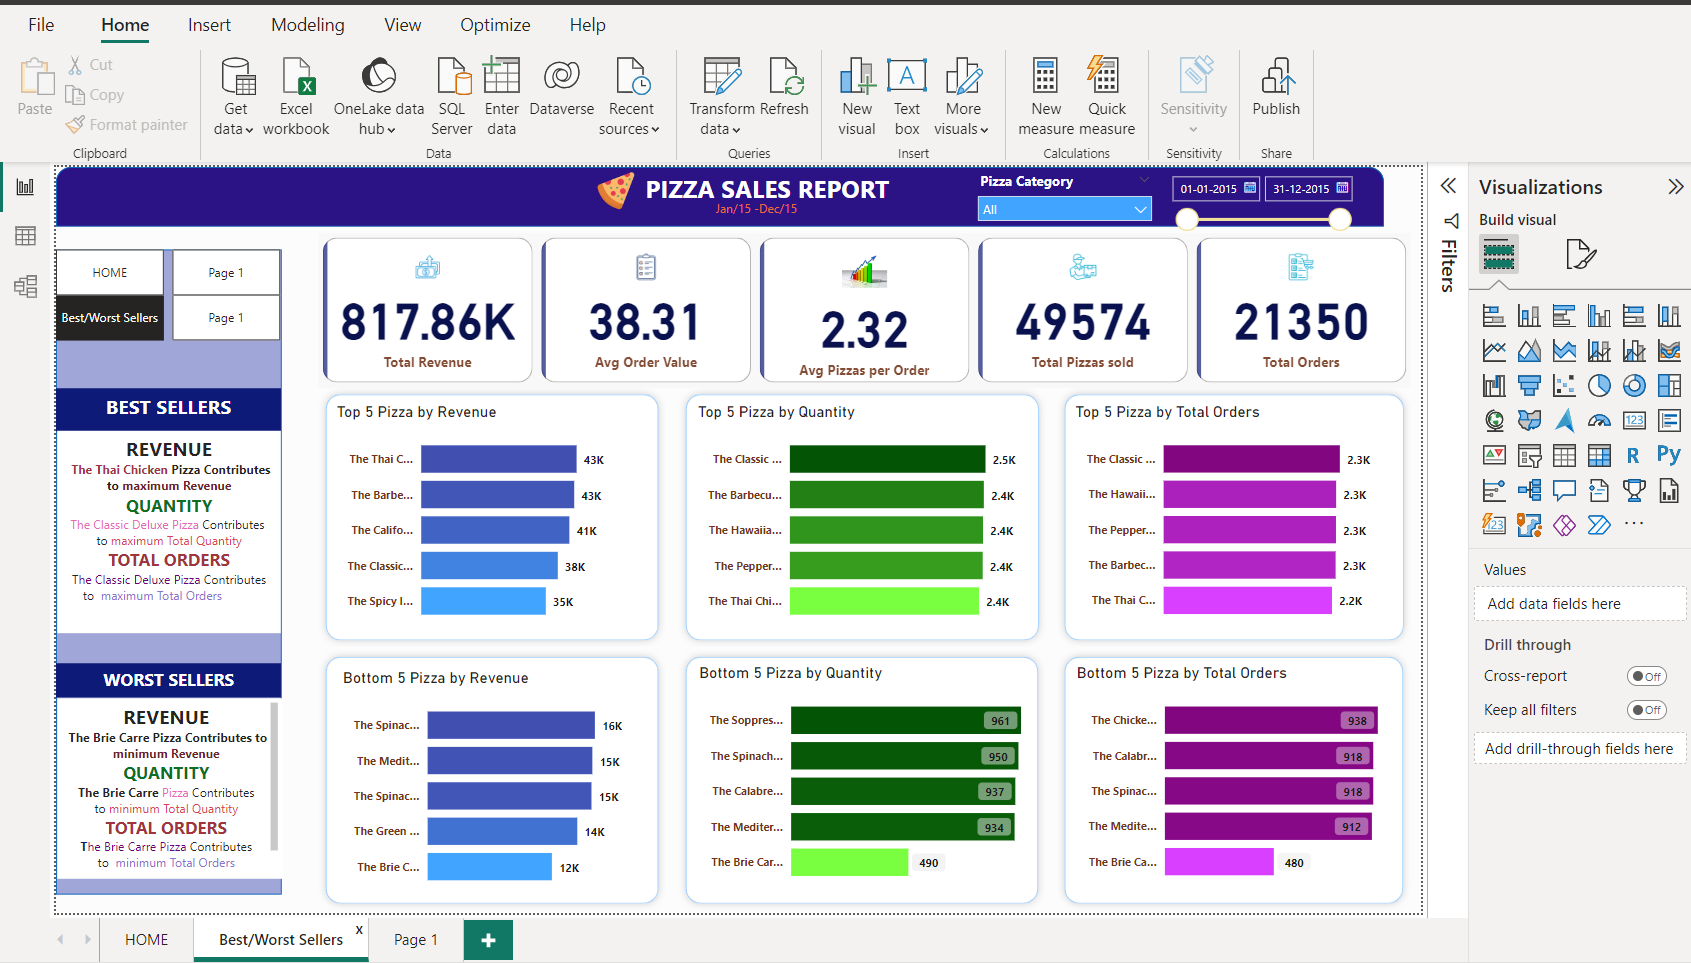

What the dashboard file says about the page in this screenshot:
{"tool":"powerbi","page":{"name":"Best/Worst Sellers","canvas":[1500,820],"ordinal":1},"visuals":[{"type":"shape","box":[0,90.5,247.8,708.6],"z":0},{"type":"shape","box":[0,0,1459,65.4],"z":1000},{"type":"cardVisual","fields":{"Data":["pizza_sales.Total Revenue","pizza_sales.Avg Order Value","pizza_sales.Avg Pizzas per Order","pizza_sales.Total Pizzas sold","pizza_sales.Total Orders"]},"box":[288.2,72.4,1200.1,169.8],"z":2000},{"type":"textbox","box":[643.2,0,309.1,61.3],"z":3000},{"type":"textbox","box":[719.8,32,125.3,40.4],"z":4000},{"type":"image","box":[560,0,110,52.5],"z":5000},{"type":"shape","box":[288.2,242.2,381.5,286.8],"z":6000},{"type":"slicer","fields":{"Values":["pizza_sales.pizza_category"]},"box":[1002.4,0,211.6,61.3],"z":7000},{"type":"slicer","fields":{"Values":["pizza_sales.order_date"]},"box":[1213.8,0,217.5,72.5],"z":8000},{"type":"shape","box":[683.6,242.2,403.7,286.8],"z":9000},{"type":"shape","box":[1099.8,242.2,388.4,286.8],"z":10000},{"type":"shape","box":[288.5,529.6,381.5,286.9],"z":11000},{"type":"shape","box":[684.1,529.6,403.5,286.9],"z":12000},{"type":"shape","box":[1100.3,529.6,387.8,286.9],"z":13000},{"type":"barChart","title":"Top 5 Pizza by Revenue ","fields":{"Category":["pizza_sales.pizza_name"],"Y":["pizza_sales.Total Revenue"]},"box":[304.2,258.5,338.9,255.4],"z":14000},{"type":"barChart","title":"Bottom 5 Pizza by Revenue ","fields":{"Category":["pizza_sales.pizza_name"],"Y":["pizza_sales.Total Revenue"]},"box":[310.5,551.3,338.3,254.8],"z":15000},{"type":"barChart","title":"Top 5 Pizza by Quantity","fields":{"Category":["pizza_sales.pizza_name"],"Y":["pizza_sales.Total Pizzas sold"]},"box":[699.9,258.5,373.6,255.4],"z":16000},{"type":"barChart","title":"Bottom 5 Pizza by Quantity","fields":{"Category":["pizza_sales.pizza_name"],"Y":["pizza_sales.Total Pizzas sold"]},"box":[701.5,545.4,373.6,255.4],"z":17000},{"type":"barChart","title":"Top 5 Pizza by Total Orders","fields":{"Category":["pizza_sales.pizza_name"],"Y":["pizza_sales.Total Orders"]},"box":[1115.1,257.6,356.4,254.8],"z":18000},{"type":"barChart","title":"Bottom 5 Pizza by Total Orders","fields":{"Category":["pizza_sales.pizza_name"],"Y":["pizza_sales.Total Orders"]},"box":[1116.5,545.7,356.4,254.8],"z":19000},{"type":"image","box":[196.3,137.8,52.9,55.7],"z":20000},{"type":"image","box":[1.4,130.9,50.1,69.6],"z":21000},{"type":"image","box":[1.4,91.9,54.3,47.3],"z":22000},{"type":"pageNavigator","box":[0,140.6,247.8,50.1],"z":23000},{"type":"pageNavigator","box":[0,90.5,247.8,50.1],"z":24000},{"type":"textbox","box":[0,242.8,247.5,47.3],"z":25000},{"type":"textbox","box":[1.6,290,245.9,222.3],"z":26000},{"type":"textbox","box":[0,545.4,247.5,37.8],"z":27000},{"type":"textbox","box":[1.6,583.2,247.5,198.6],"z":28000}]}

Visuals, with their boxes on the page's 1500x820 design canvas (x1, y1, x2, y2). These are canvas units, not pixel positions in the 1691x963 screenshot, which may show the page scaled, cropped or inside an application window:
shape: (0,90,248,799)
shape: (0,0,1459,65)
cardVisual - pizza_sales.Total Revenue x pizza_sales.Avg Order Value: (288,72,1488,242)
textbox: (643,0,952,61)
textbox: (720,32,845,72)
image: (560,0,670,52)
shape: (288,242,670,529)
slicer - pizza_sales.pizza_category: (1002,0,1214,61)
slicer - pizza_sales.order_date: (1214,0,1431,72)
shape: (684,242,1087,529)
shape: (1100,242,1488,529)
shape: (288,530,670,816)
shape: (684,530,1088,816)
shape: (1100,530,1488,816)
"Top 5 Pizza by Revenue " barChart: (304,258,643,514)
"Bottom 5 Pizza by Revenue " barChart: (310,551,649,806)
"Top 5 Pizza by Quantity" barChart: (700,258,1074,514)
"Bottom 5 Pizza by Quantity" barChart: (702,545,1075,801)
"Top 5 Pizza by Total Orders" barChart: (1115,258,1472,512)
"Bottom 5 Pizza by Total Orders" barChart: (1116,546,1473,800)
image: (196,138,249,194)
image: (1,131,52,200)
image: (1,92,56,139)
pageNavigator: (0,141,248,191)
pageNavigator: (0,90,248,141)
textbox: (0,243,248,290)
textbox: (2,290,248,512)
textbox: (0,545,248,583)
textbox: (2,583,249,782)
